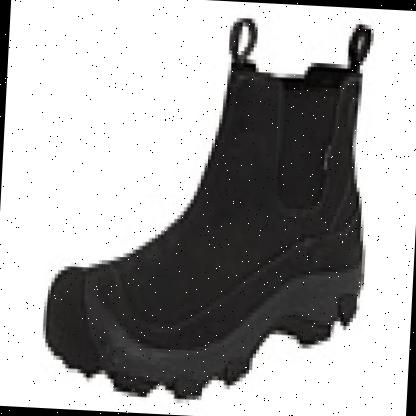bota: (42, 27, 376, 411)
